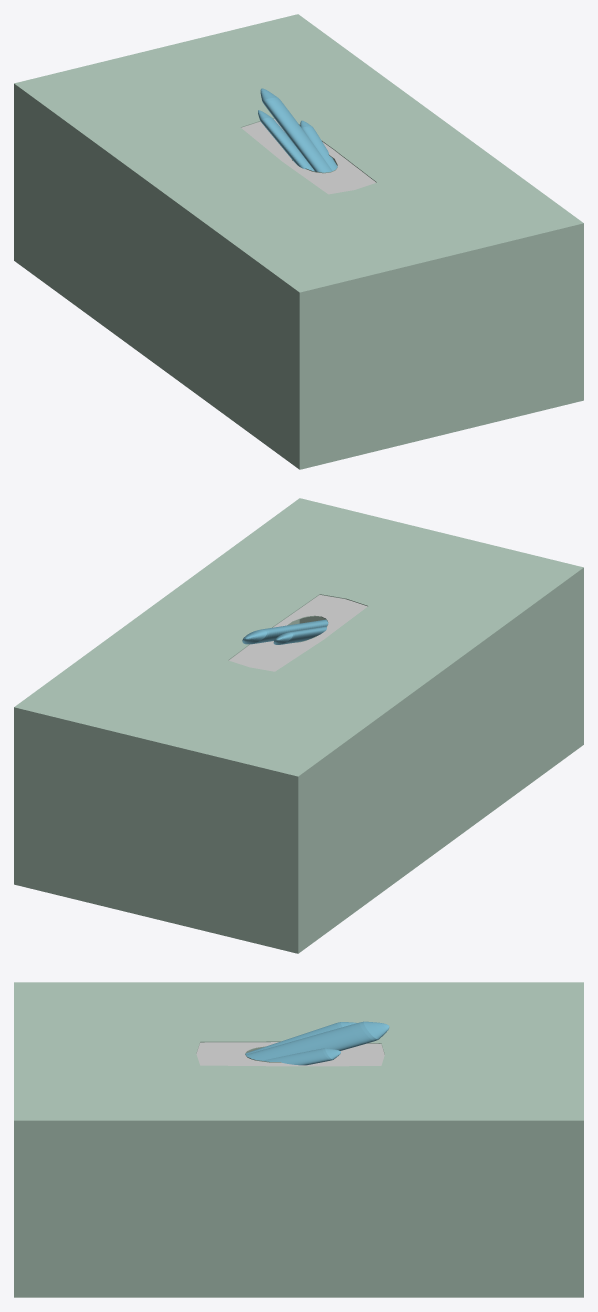
Rendered from glovebox.fbx.
3 views of the same model, one above another, from view 1: azimuth 30°, elevation 25°; view 2: azimuth 150°, elevation 25°; view 3: azimuth 270°, elevation 25° (orthographic).
Visible parts, largest first — view 1: Cube, Cylinder, Cylinder.001; view 2: Cube, Cylinder; view 3: Cube, Cylinder, Cylinder.002, Cylinder.001.
Boxes of the visible parts, x1=… form: Cube: x1=14, y1=14, x2=583, y2=469; Cylinder: x1=260, y1=88, x2=332, y2=172; Cylinder.001: x1=258, y1=110, x2=314, y2=171; Cube: x1=14, y1=498, x2=583, y2=953; Cylinder: x1=242, y1=619, x2=328, y2=644; Cube: x1=14, y1=982, x2=583, y2=1297; Cylinder: x1=246, y1=1021, x2=389, y2=1060; Cylinder.002: x1=262, y1=1048, x2=340, y2=1065; Cylinder.001: x1=245, y1=1022, x2=356, y2=1054.
Bounding box in the file's own units: 47.54 × 33.29 × 82.8.
